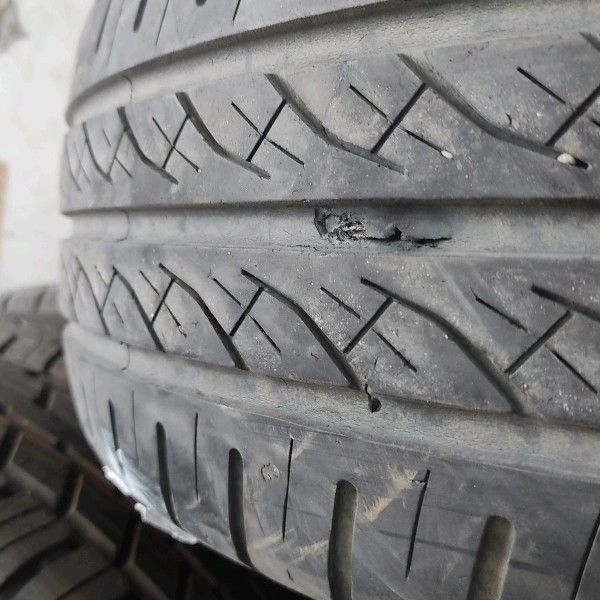tr: (310, 205, 460, 251)
